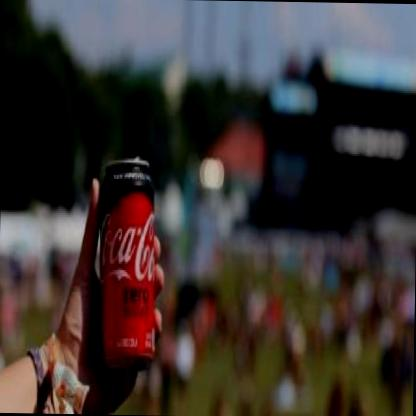alumunium_can: (96, 156, 159, 376)
